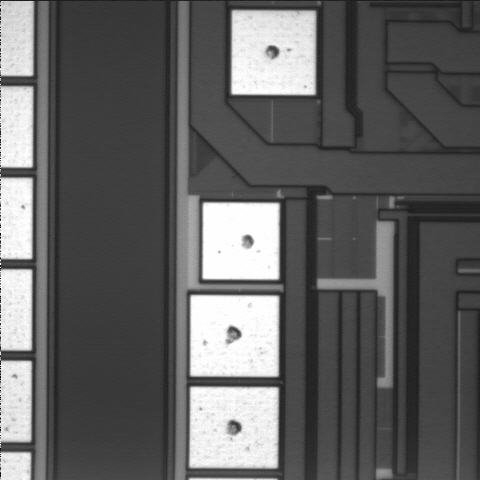pad: (190, 295, 279, 377), (189, 387, 278, 468), (231, 11, 316, 95), (202, 203, 280, 280)
